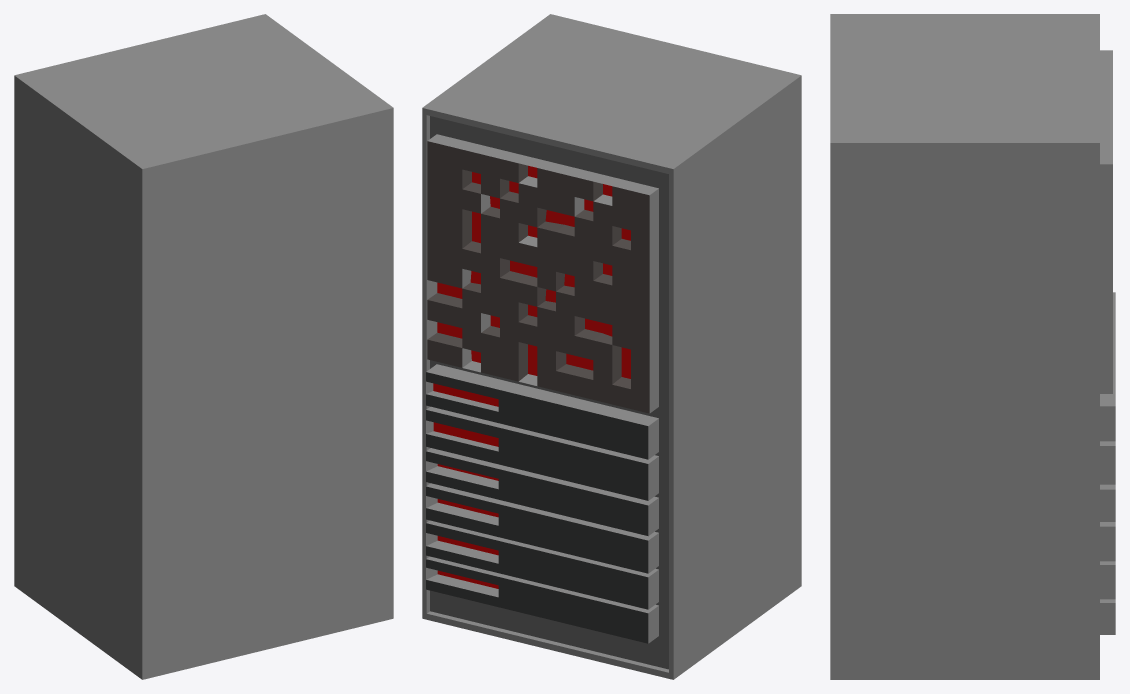
File: serwer_default.fbx
The picture shows the model from 3 angles, left to right: view 1: azimuth 30°, elevation 25°; view 2: azimuth 150°, elevation 25°; view 3: azimuth 270°, elevation 25°; orthographic projection. The views are drawn at different scales.
Parts seen in each view (by area): view 1: serwer_2; view 2: serwer_2; view 3: serwer_2.
Part boxes in pixels (x1,y1,x2,y2): serwer_2: (14, 14, 393, 679); serwer_2: (422, 14, 801, 679); serwer_2: (830, 14, 1115, 679).
Bounding box in the file's own units: 96.3 × 200 × 103.
